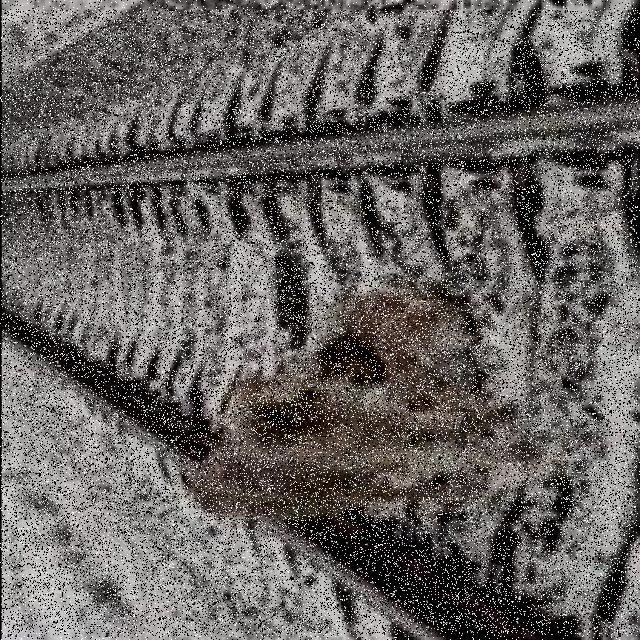danger: (169, 278, 545, 551)
rail: (1, 11, 638, 635)
